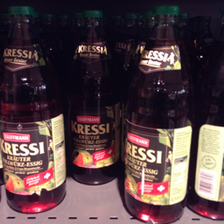vinegar: (124, 6, 200, 223), (1, 5, 68, 218), (65, 10, 122, 186)
